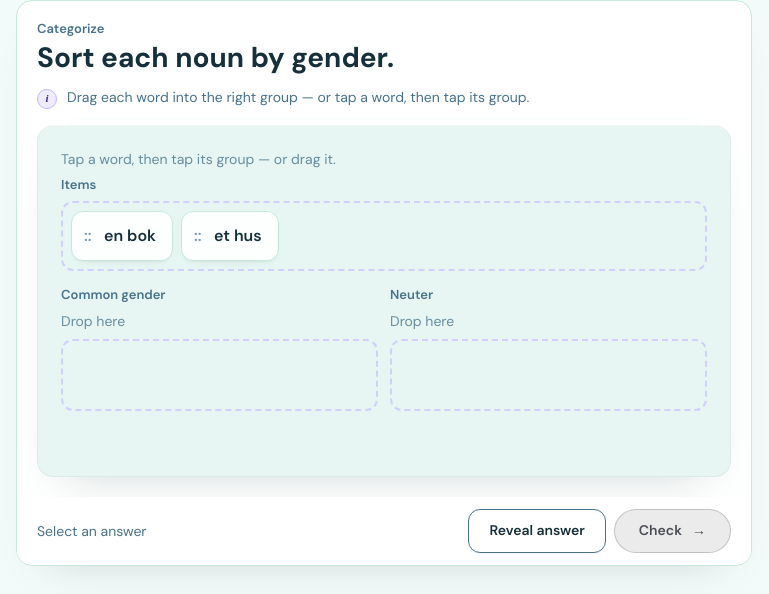
Test: FlashCardCategorize › disables chips after terminal phase (solved)
The width and height of the screenshot is (769, 594).
Note: Place both items correctly.
Click the button "en bok" at point(122, 236), box [71, 211, 173, 261]
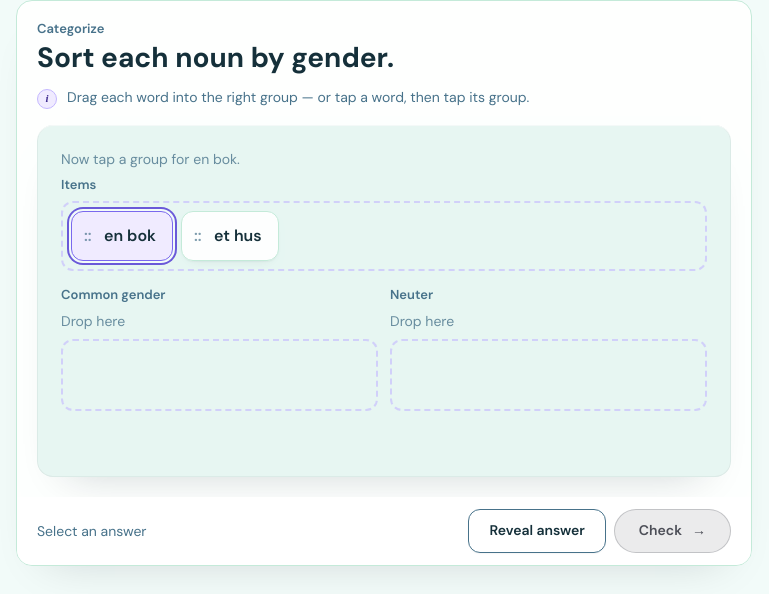
Click the button with test id "drop-zone" at point(220, 375), box [61, 339, 378, 411]
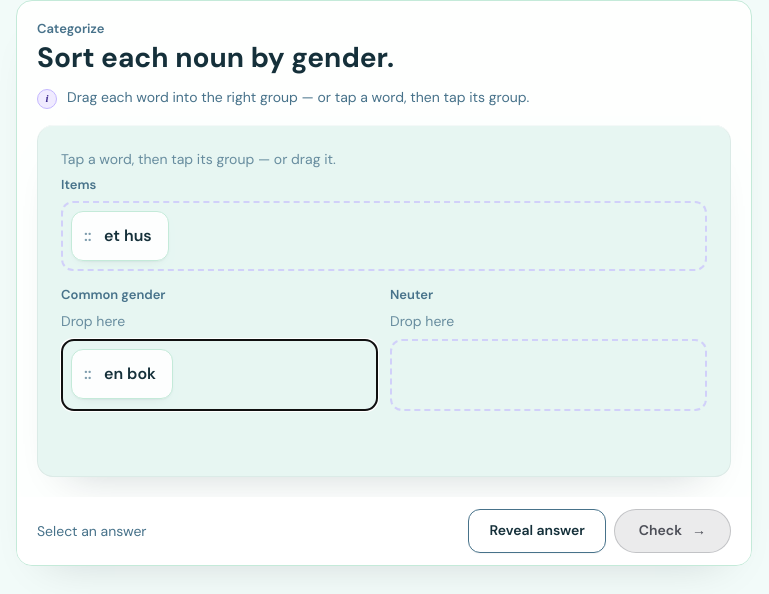
Click the button "et hus" at point(120, 236), box [71, 211, 169, 261]
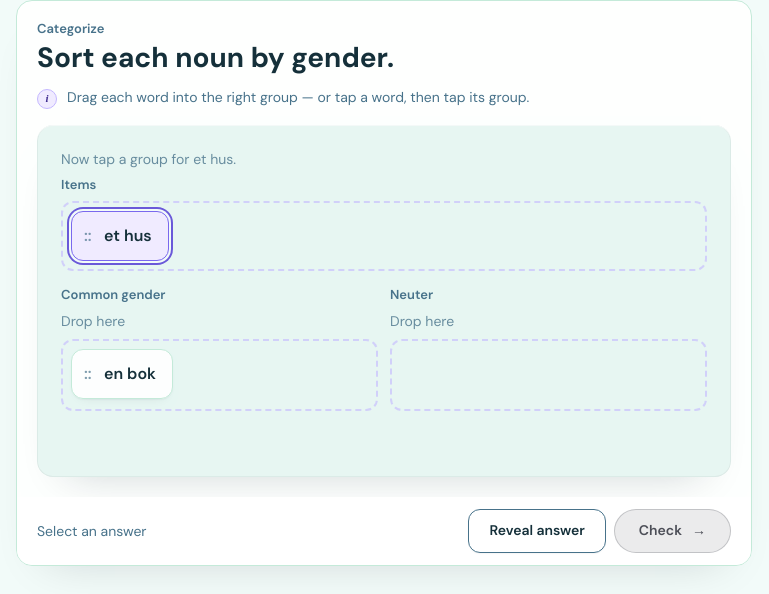
Click the button with test id "drop-zone" at point(548, 375), box [390, 339, 707, 411]
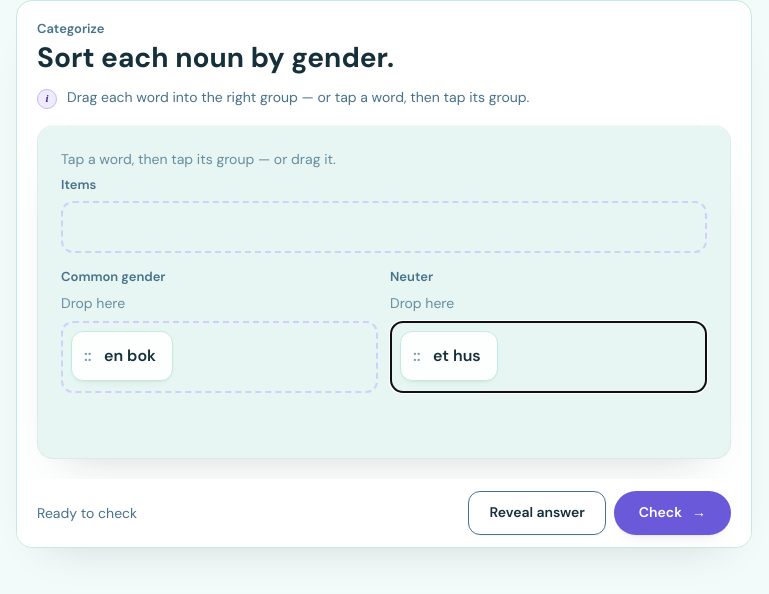
Click the button "Check →" at point(672, 513), box [614, 491, 731, 535]
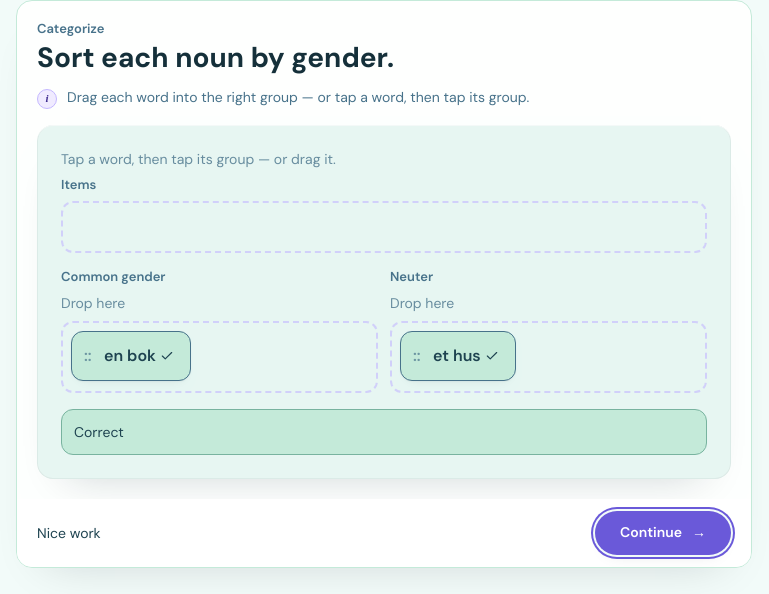
Check: the button with test id "token-chip" is disabled, box [71, 331, 191, 381]
